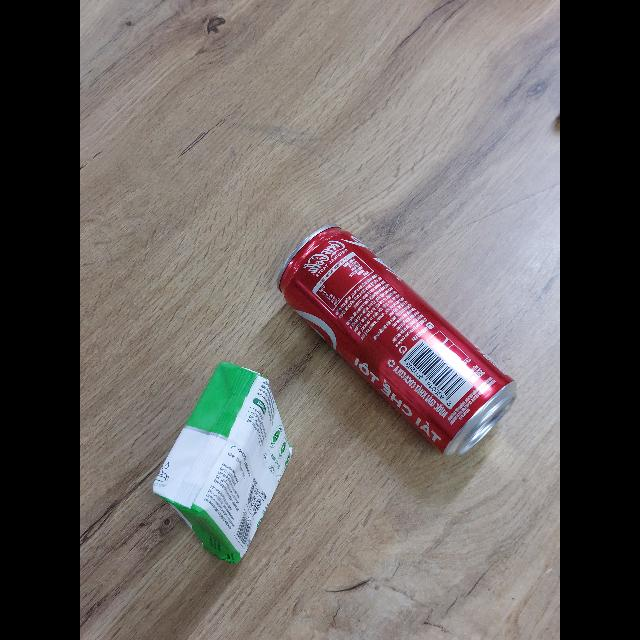coca_cola: (277, 228, 516, 458)
khan_giay: (153, 362, 294, 568)
